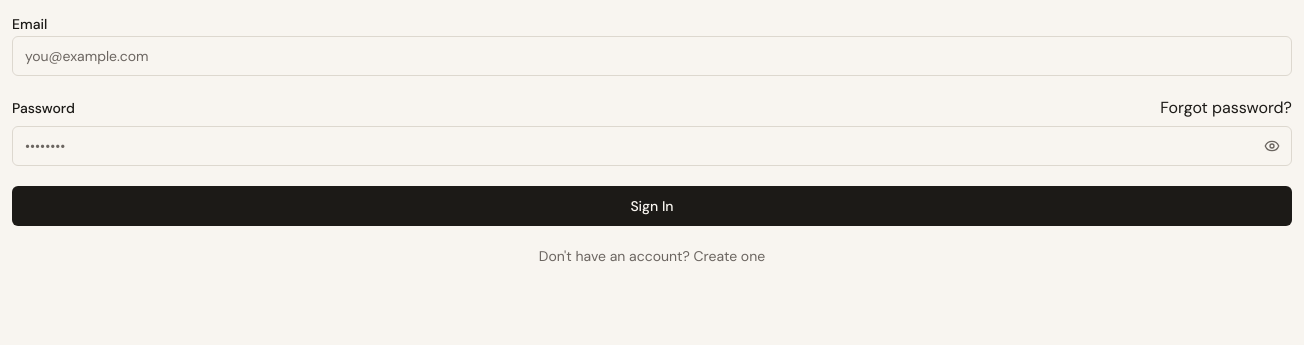
Test: LoginForm › shows error message on failed sign in
Type "test@example.com" into the field labelled "Email" at coordinates (652, 56), box [12, 36, 1292, 76]
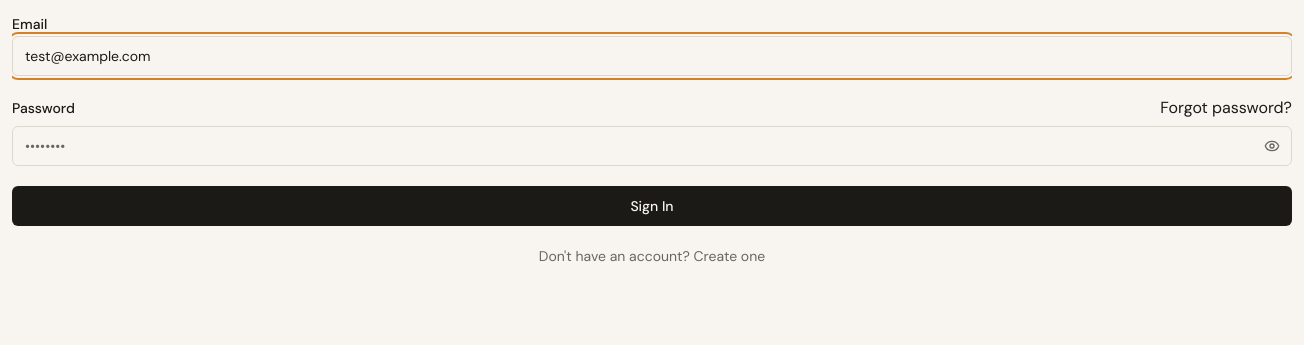
Type "WrongPass1" into the password field labelled "Password" at coordinates (652, 146), box [12, 126, 1292, 166]
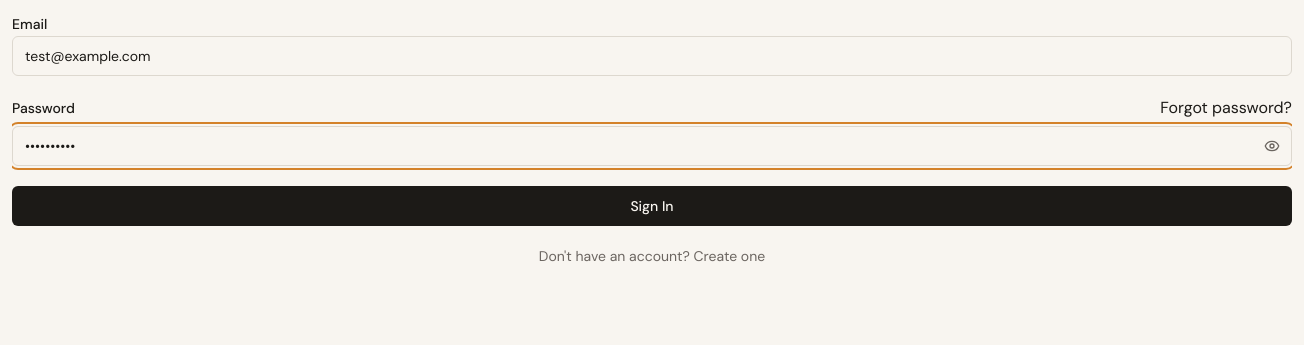
Click the button "Sign In" at coordinates (652, 206), box [12, 186, 1292, 226]
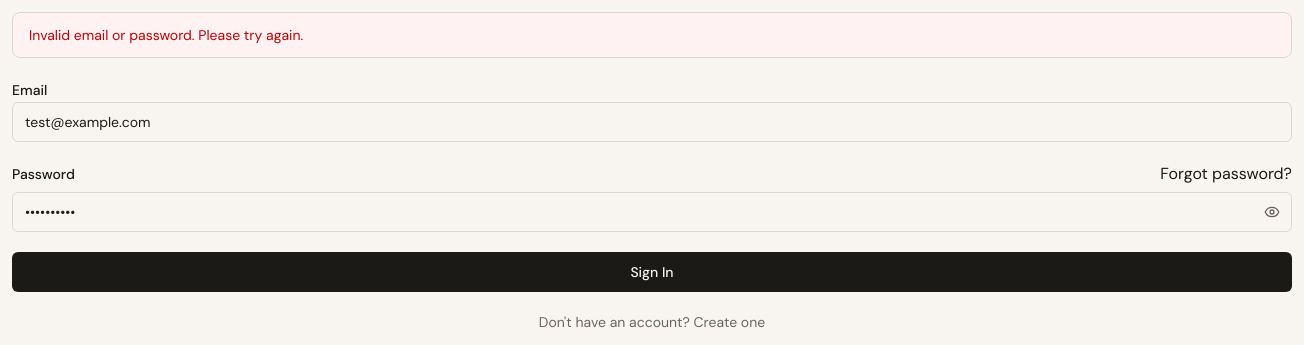
Expected: the text "Invalid email or password. Please try again." is shown, [12, 12, 1292, 58]
